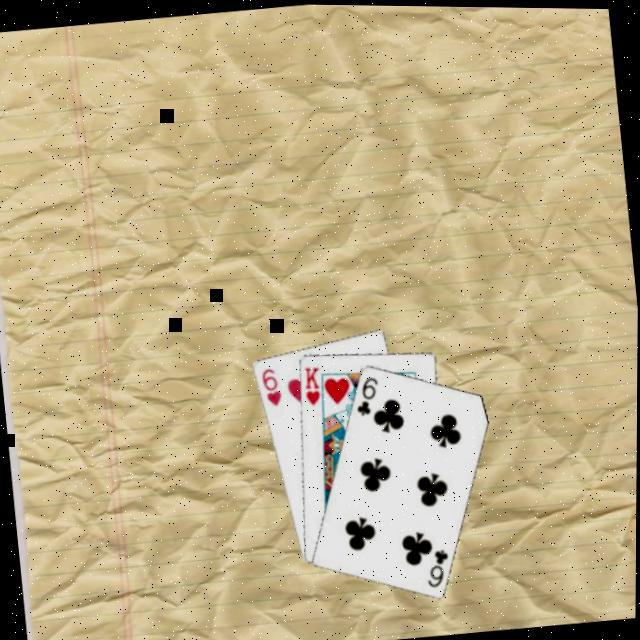6C: (349, 370, 383, 416), (421, 541, 453, 587)
6H: (256, 362, 284, 407)
KH: (299, 360, 324, 406)
